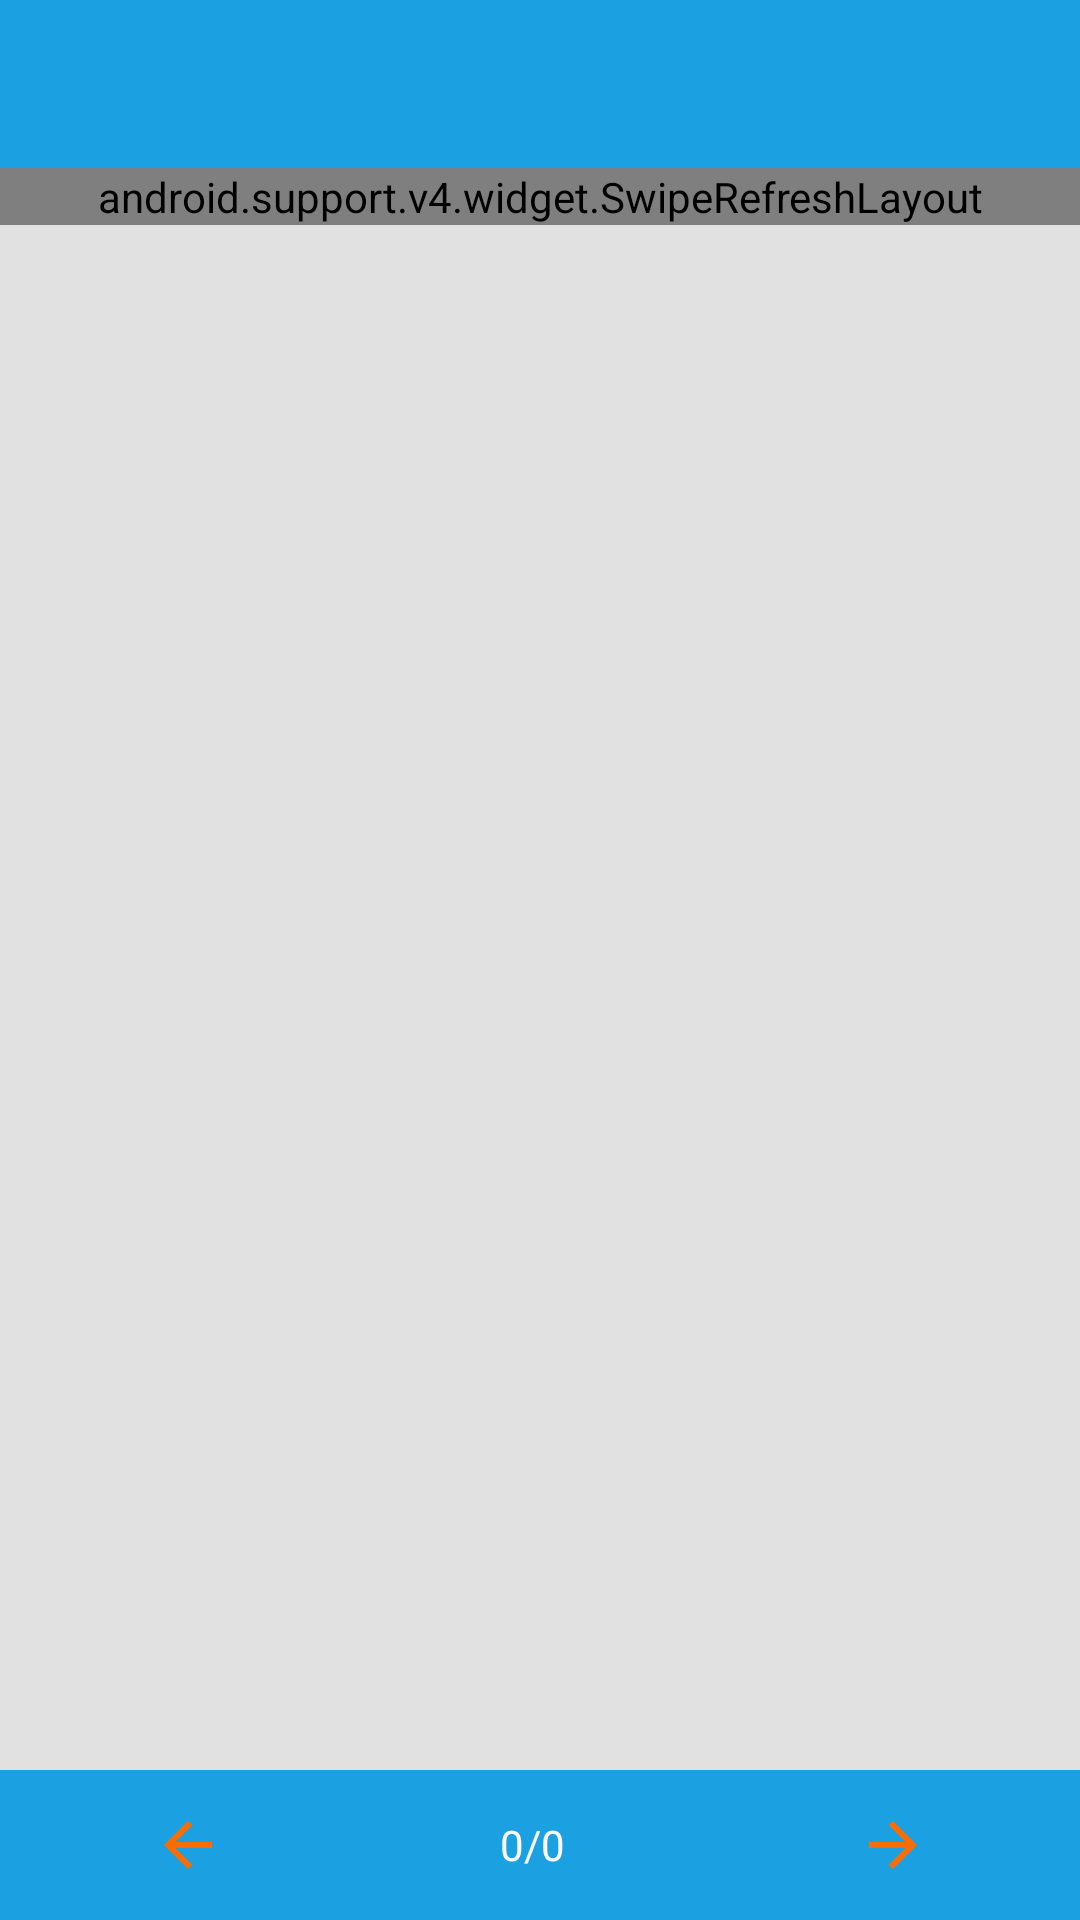

Screen size 1080px x 1920px. Icon name, then its box in pixels as (x1, y1, x2, y2):
back: (164, 1821, 212, 1869)
next: (869, 1821, 917, 1869)
